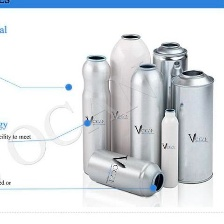aerosol_cans: (168, 66, 218, 186)
bottle: (106, 27, 152, 167), (125, 59, 169, 183), (78, 50, 113, 179), (149, 37, 189, 148), (82, 145, 165, 198), (157, 105, 180, 190)
